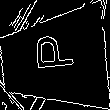P_W: (30, 40, 78, 81)
